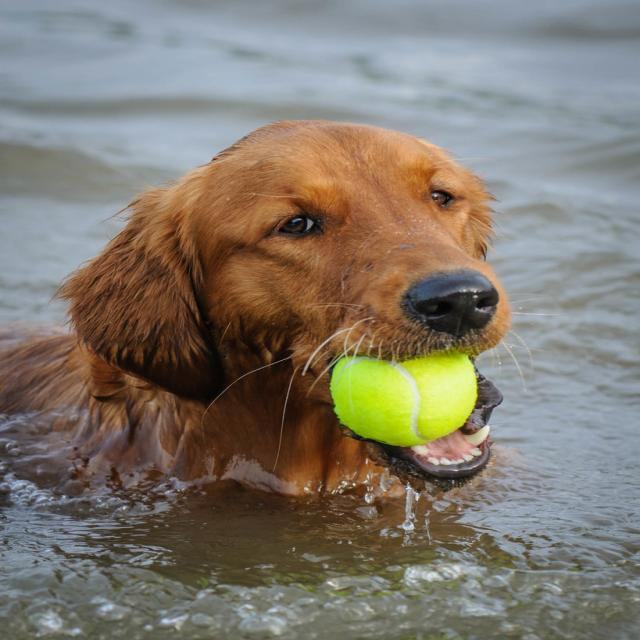Tennis ball: (330, 350, 479, 448)
